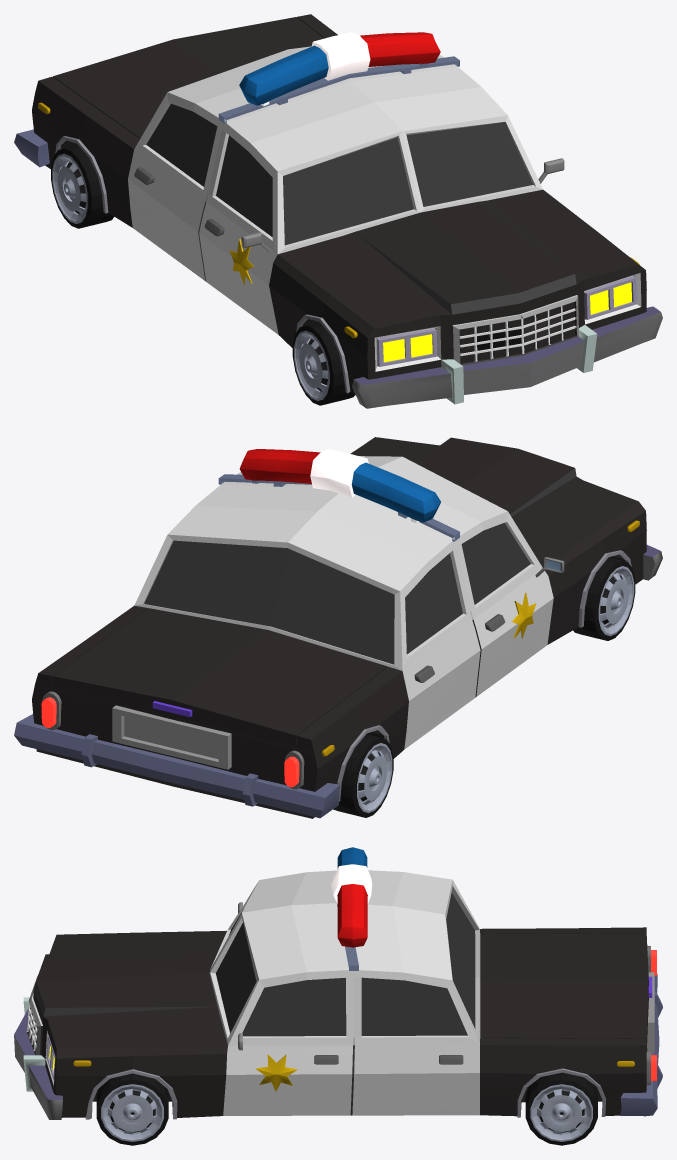
Rendered from police_car.glb.
The picture shows the model from 3 angles, top to bottom: view 1: azimuth 30°, elevation 25°; view 2: azimuth 150°, elevation 25°; view 3: azimuth 270°, elevation 25°; orthographic projection. The views are drawn at different scales.
Visible parts, largest first — view 1: Cube_2, Cube.011_18, Cube.013_20, Cylinder.003_25, Cylinder.001_23, Cube.012_19, Cube.015_21, Cube.009_17, Cube.005_7; view 2: Cube_2, Cube.009_17, Cube.013_20, Cube.007_9, Cylinder.003_25, Cylinder.001_23, Circle.001_48, Cube.015_21; view 3: Cube_2, Cylinder.002_24, Cylinder.006_14, Cube.013_20, Cube.011_18, Cube.009_17, Star.001_26, Circle.001_48, Cube.007_9, Cube.003_5.
Part boxes in pixels (left/top/right/bottom): Cube_2: left=32, top=14, right=646, bottom=395; Cube.011_18: left=352, top=306, right=662, bottom=408; Cube.013_20: left=239, top=32, right=440, bottom=106; Cylinder.003_25: left=51, top=145, right=114, bottom=228; Cylinder.001_23: left=292, top=322, right=354, bottom=405; Cube.012_19: left=377, top=276, right=636, bottom=366; Cube.015_21: left=218, top=56, right=459, bottom=123; Cube.009_17: left=14, top=129, right=49, bottom=167; Cube.005_7: left=241, top=158, right=564, bottom=252; Cube_2: left=32, top=437, right=646, bottom=818; Cube.009_17: left=14, top=714, right=339, bottom=818; Cube.013_20: left=239, top=449, right=440, bottom=523; Cube.007_9: left=112, top=705, right=231, bottom=769; Cylinder.003_25: left=333, top=734, right=393, bottom=817; Cylinder.001_23: left=573, top=557, right=635, bottom=640; Circle.001_48: left=41, top=691, right=304, bottom=789; Cube.015_21: left=218, top=474, right=459, bottom=541; Cube_2: left=26, top=870, right=648, bottom=1119; Cylinder.002_24: left=525, top=1072, right=597, bottom=1145; Cylinder.006_14: left=96, top=1073, right=168, bottom=1145; Cube.013_20: left=331, top=847, right=372, bottom=947; Cube.011_18: left=14, top=997, right=62, bottom=1119; Cube.009_17: left=620, top=974, right=662, bottom=1115; Star.001_26: left=255, top=1054, right=297, bottom=1091; Circle.001_48: left=646, top=946, right=656, bottom=1085; Cube.007_9: left=647, top=972, right=654, bottom=1052; Cube.003_5: left=314, top=1055, right=463, bottom=1064.
Size of the model in its own units: 7.45 by 5.23 by 14.71.
